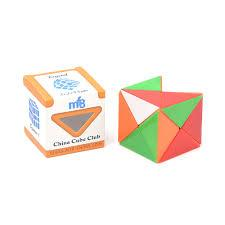cube: (23, 67, 107, 156)
